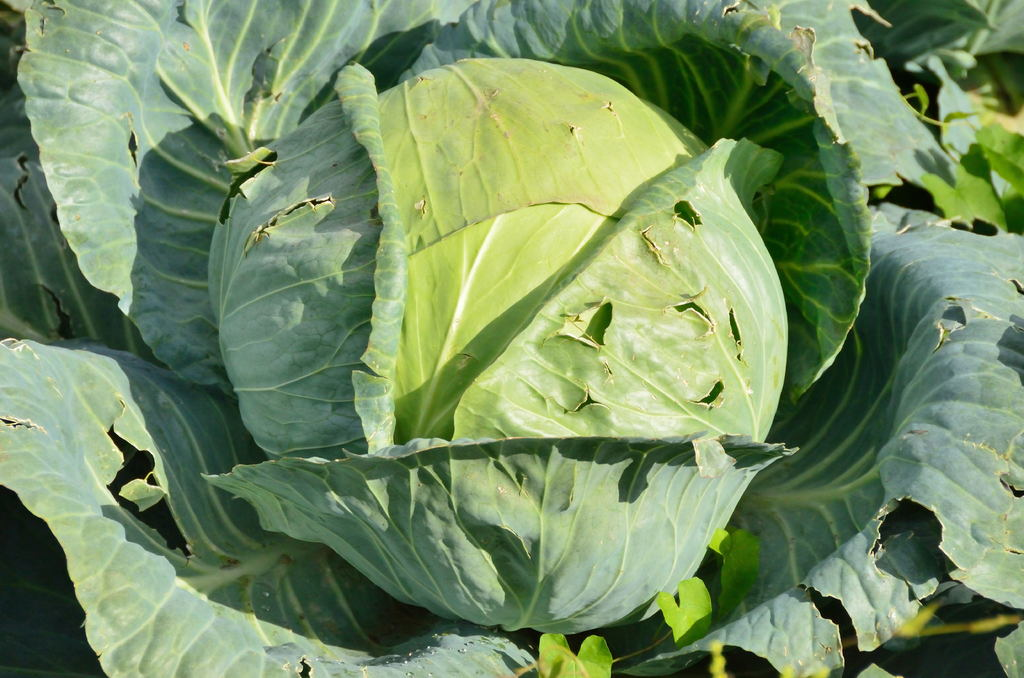Cabbage: (200, 57, 800, 634)
